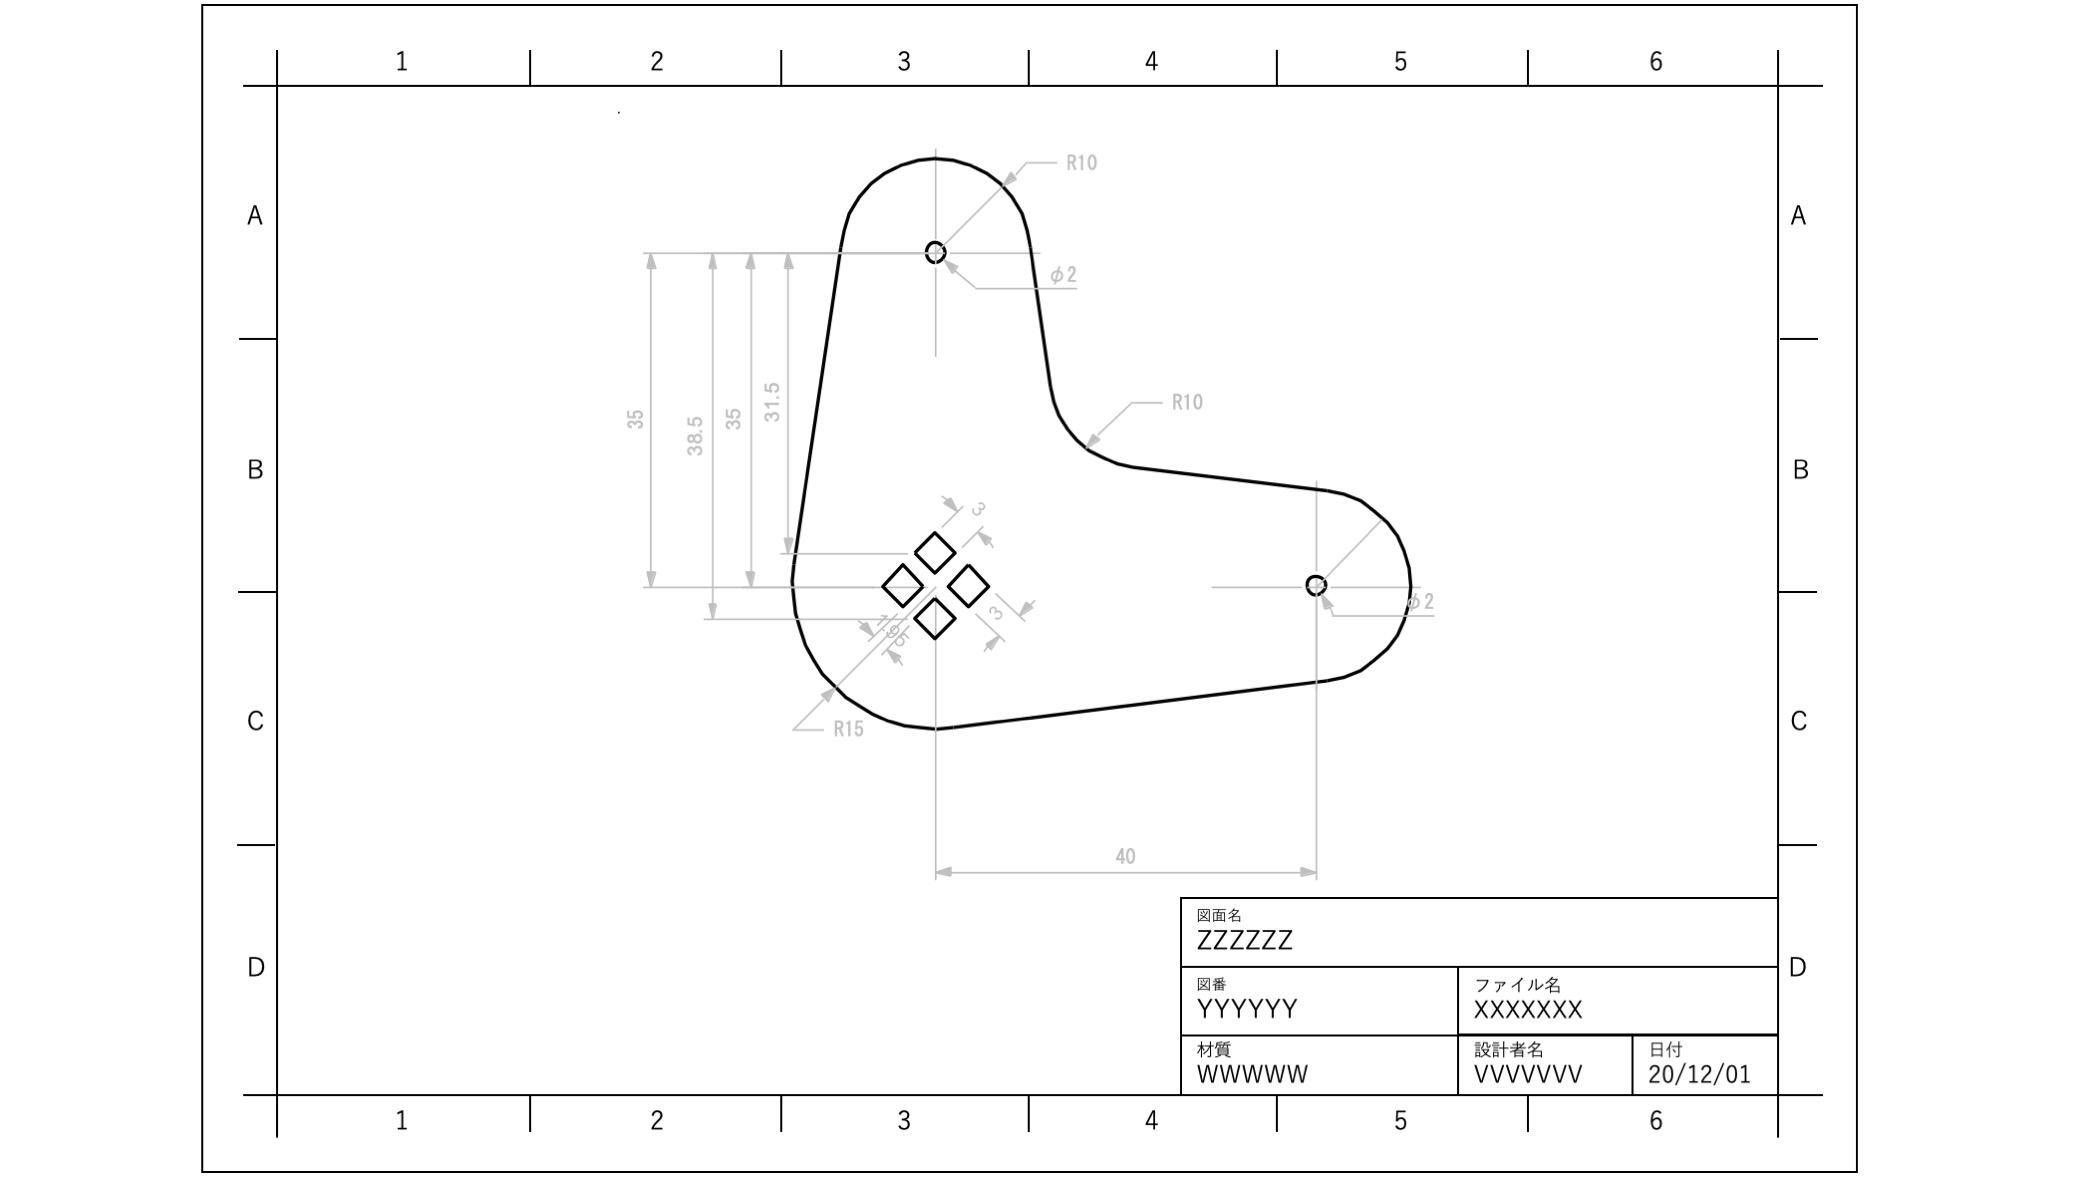circle: (1297, 562, 1337, 603), (923, 231, 948, 273)
rectangle: (945, 562, 995, 610), (871, 562, 922, 610), (912, 521, 958, 571), (912, 594, 955, 645)
